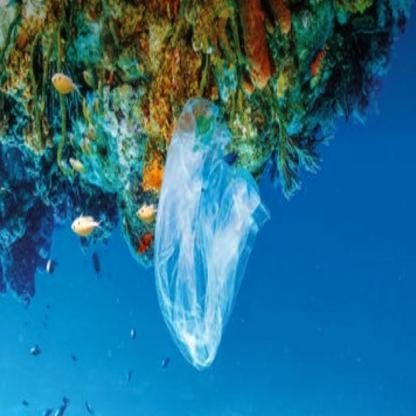plastic: (157, 99, 281, 386)
